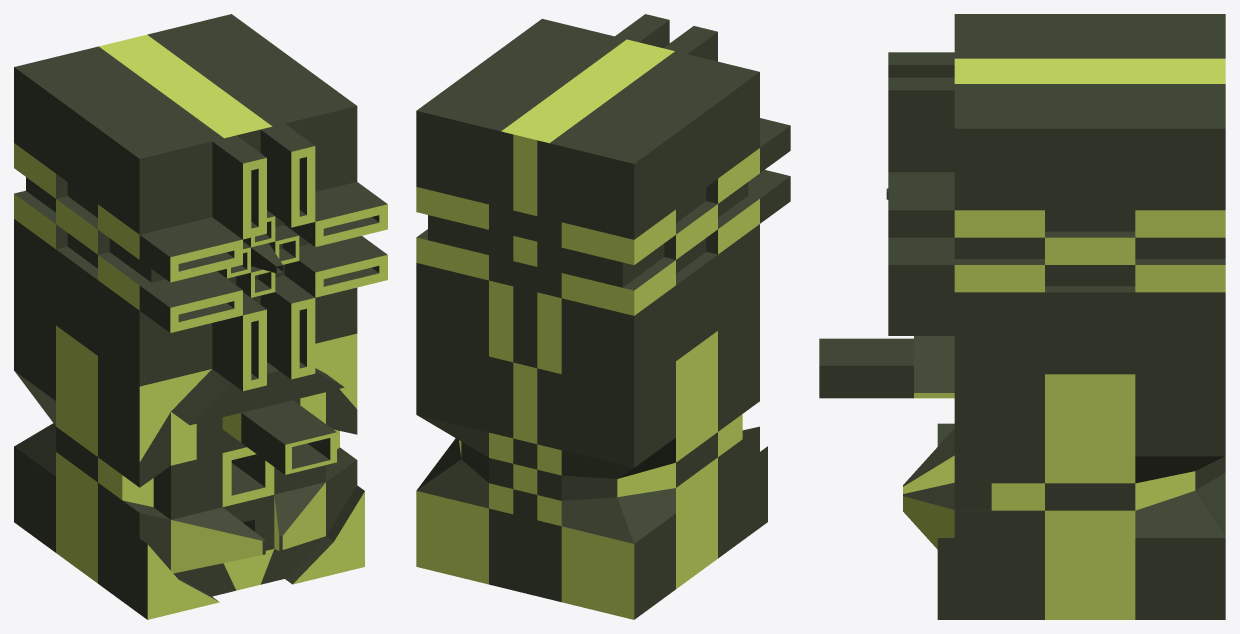
File: Torreta3.fbx
3 renders of one model, left to right at view 1: azimuth 30°, elevation 25°; view 2: azimuth 150°, elevation 25°; view 3: azimuth 270°, elevation 25°, orthographic. The views are drawn at different scales.
Visible parts, largest first — view 1: Torreta3; view 2: Torreta3; view 3: Torreta3.
Part boxes in pixels (<box>): Torreta3: <box>14,14,387,619</box>; Torreta3: <box>416,14,790,619</box>; Torreta3: <box>819,14,1225,619</box>.
Bounding box in the file's own units: 200 × 400 × 300.
